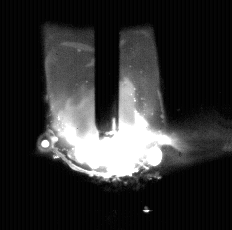arame: (95, 0, 121, 140)
poca: (65, 0, 174, 230)
